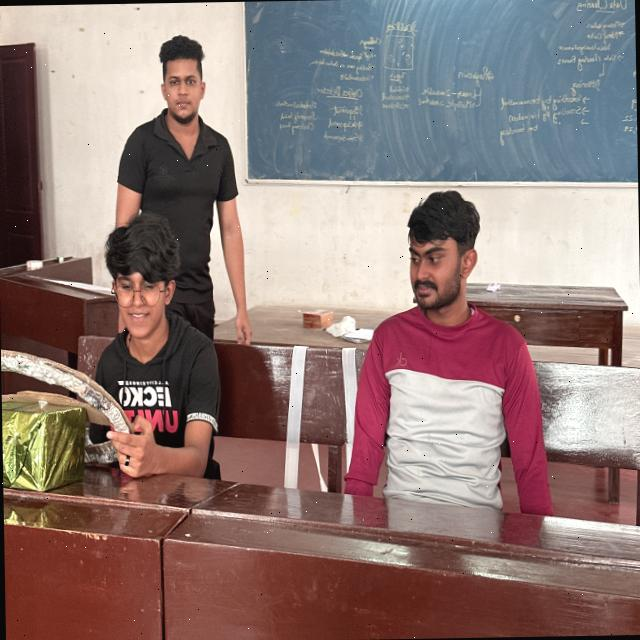no-seatbelt: (344, 296, 542, 518), (79, 284, 217, 502), (122, 117, 235, 316)
